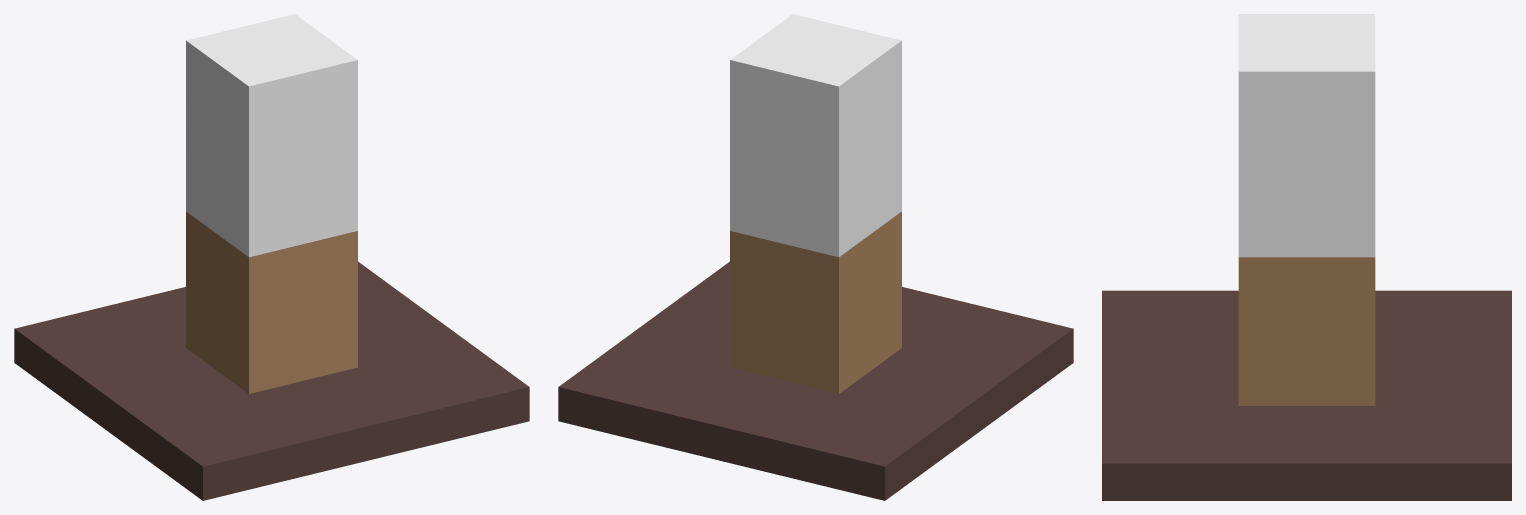
The model's file is floor_column.FBX.
3 renders of one model, left to right at view 1: azimuth 30°, elevation 25°; view 2: azimuth 150°, elevation 25°; view 3: azimuth 270°, elevation 25°, orthographic. The views are drawn at different scales.
Visible parts, largest first — view 1: Object266; view 2: Object266; view 3: Object266.
Part boxes in pixels (bbox=[...]): Object266: bbox=[14, 14, 529, 500]; Object266: bbox=[558, 14, 1073, 500]; Object266: bbox=[1102, 14, 1511, 500].
Bounding box in the file's own units: 100 × 100 × 100.
